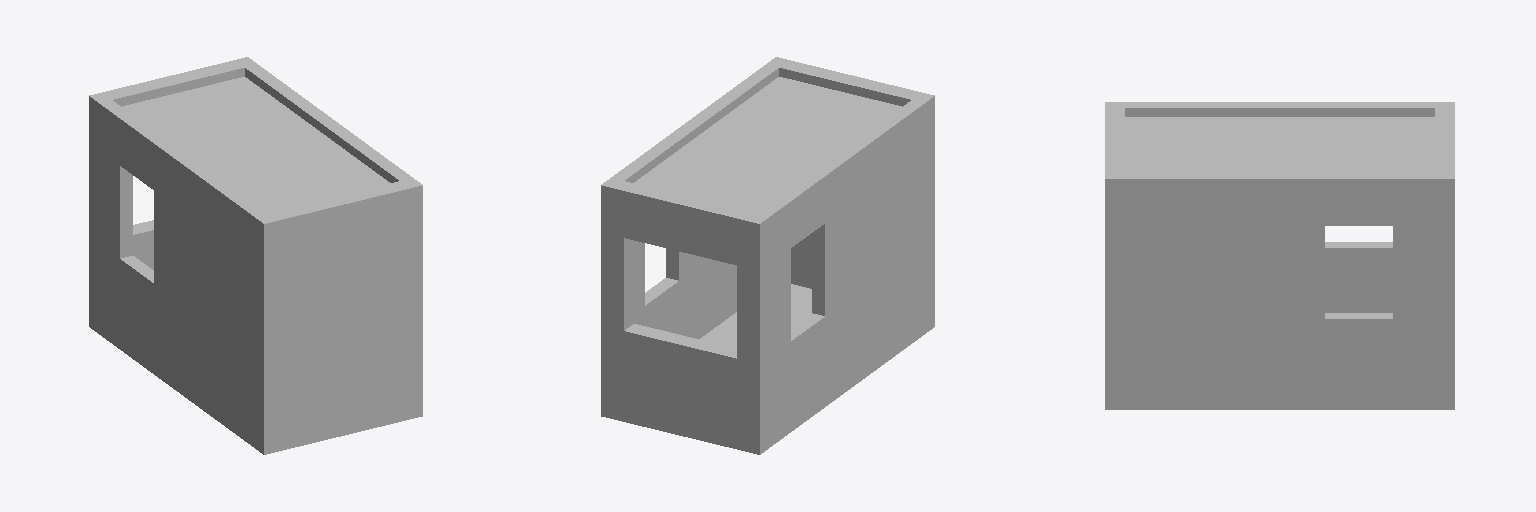
The model's file is Trolley.obj.
3 renders of one model, left to right at view 1: azimuth 30°, elevation 25°; view 2: azimuth 150°, elevation 25°; view 3: azimuth 270°, elevation 25°, orthographic.
Parts seen in each view (by area): view 1: Cart; view 2: Cart; view 3: Cart.
Part boxes in pixels (x1,y1,x2,y2): Cart: (89, 57, 422, 454); Cart: (601, 57, 934, 454); Cart: (1105, 102, 1454, 409).
Size of the model in its own units: 1.77 by 2.45 by 3.38.